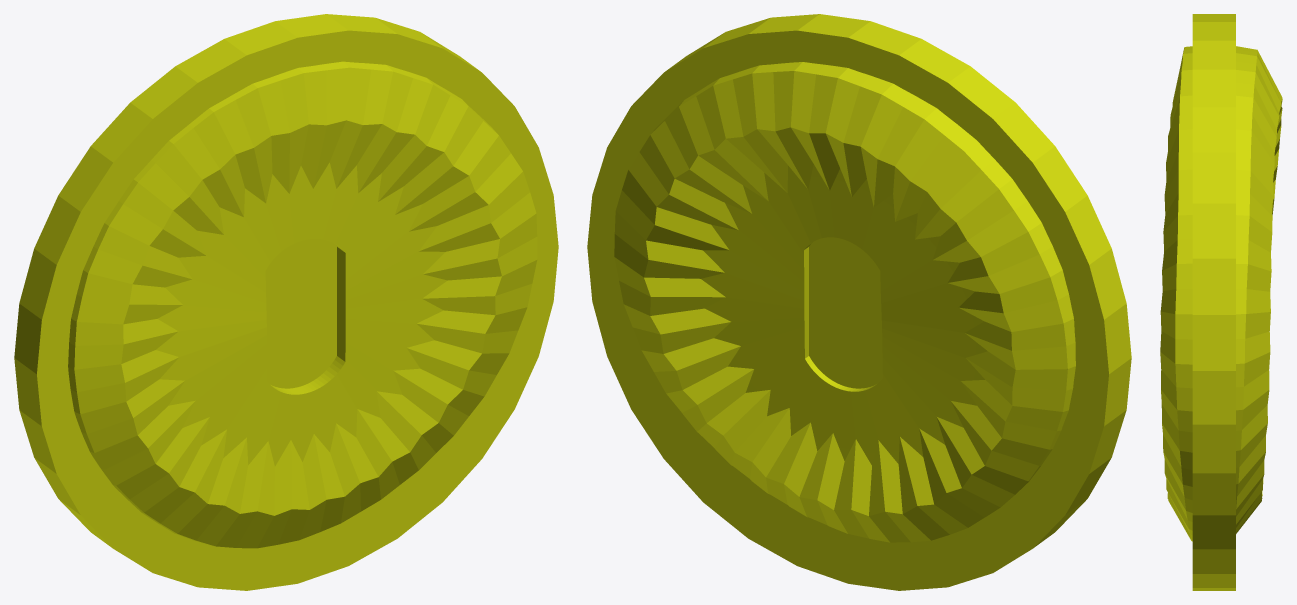
The model's file is coin1.glb.
3 renders of one model, left to right at view 1: azimuth 30°, elevation 25°; view 2: azimuth 150°, elevation 25°; view 3: azimuth 270°, elevation 25°, orthographic. The views are drawn at different scales.
Parts seen in each view (by area): view 1: InnerRing, OuterRing; view 2: InnerRing, OuterRing; view 3: InnerRing, OuterRing.
Boxes of the visible parts, left/top/right/bottom form: InnerRing: left=68, top=61, right=537, bottom=548; OuterRing: left=14, top=14, right=558, bottom=590; InnerRing: left=614, top=62, right=1075, bottom=542; OuterRing: left=587, top=14, right=1131, bottom=590; InnerRing: left=1160, top=46, right=1282, bottom=541; OuterRing: left=1192, top=14, right=1235, bottom=590.
Bounding box in the file's own units: 0.2 × 0.2 × 0.0424.
